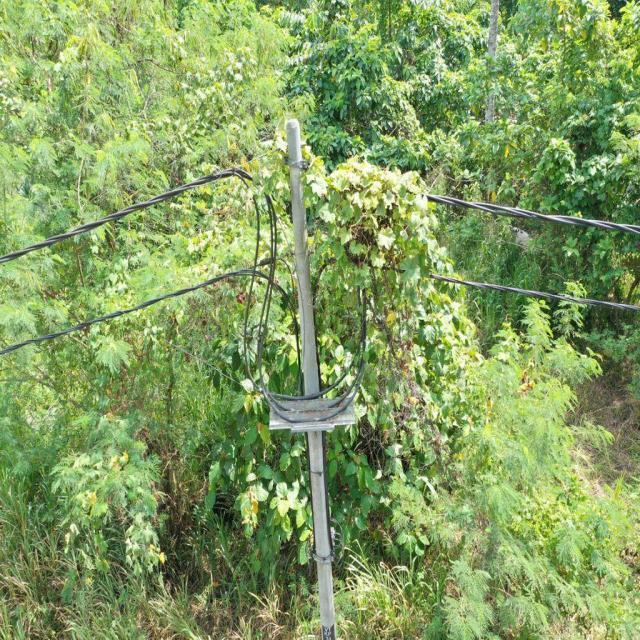critical vegetation: (224, 134, 446, 421)
